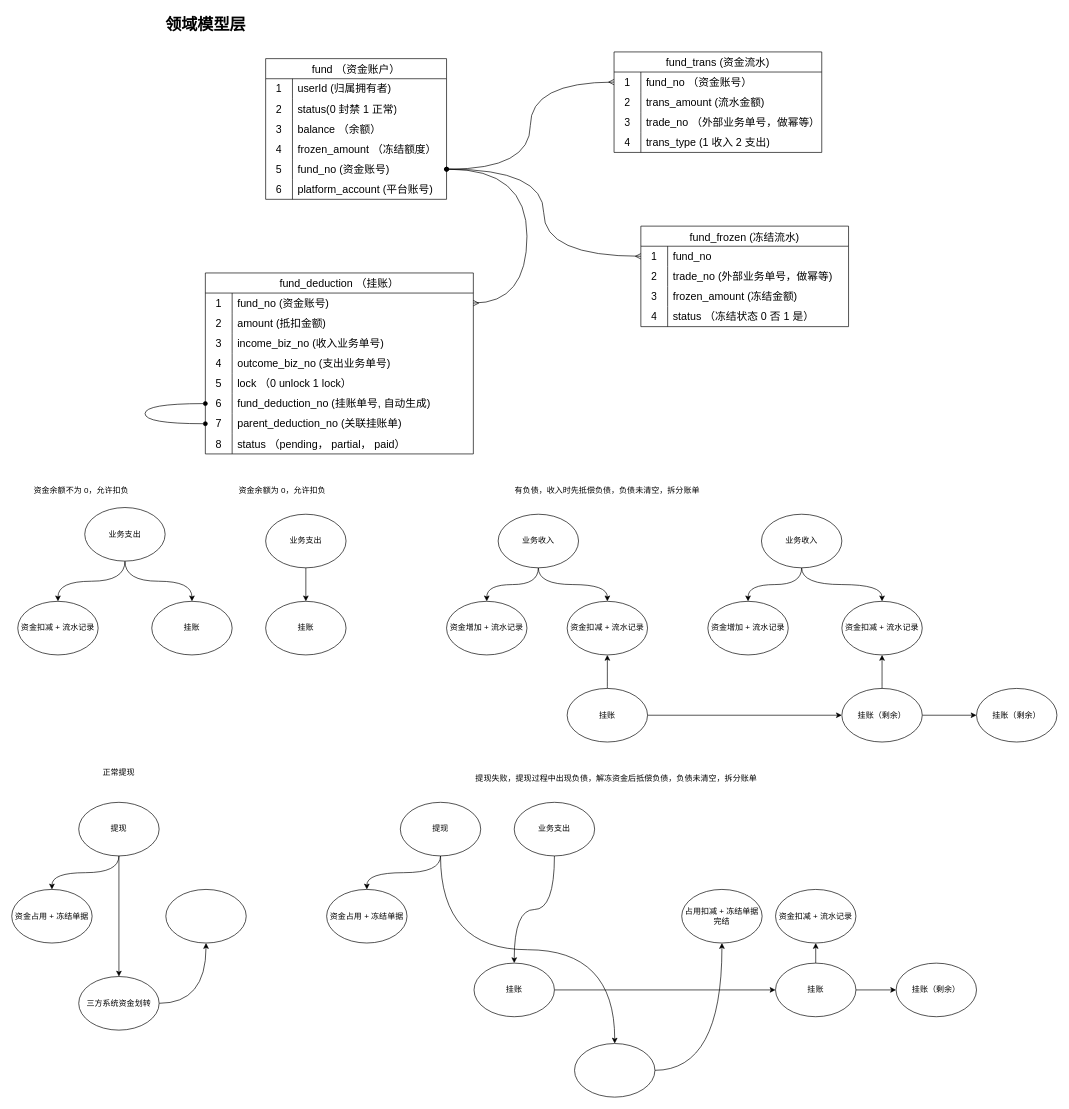
The diagram is 1069 pixels wide and 1109 high, and some of its shapes have lost their labels. Here are the shapes that lost their labels. From the top down, the centre of each, then its label:
At (205,916): "占用扣减 + 资金扣减 + 冻结单据完结".
At (614,1070): "三方系统资金 划转失败".
